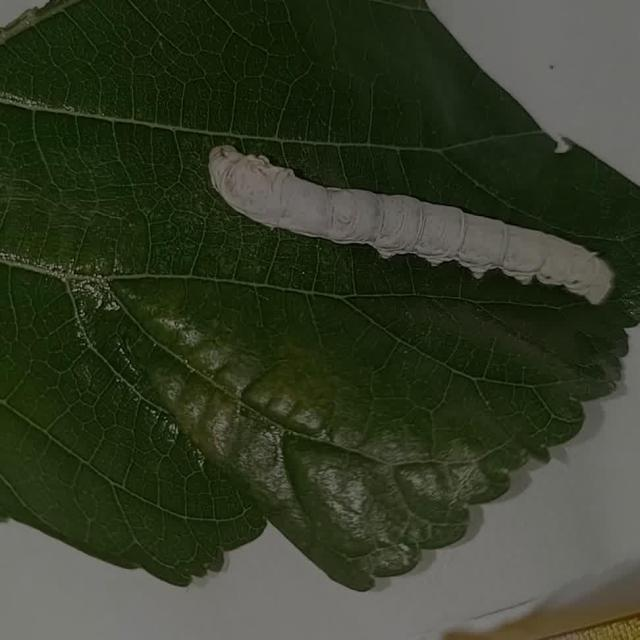Healthy: (186, 124, 625, 346)
